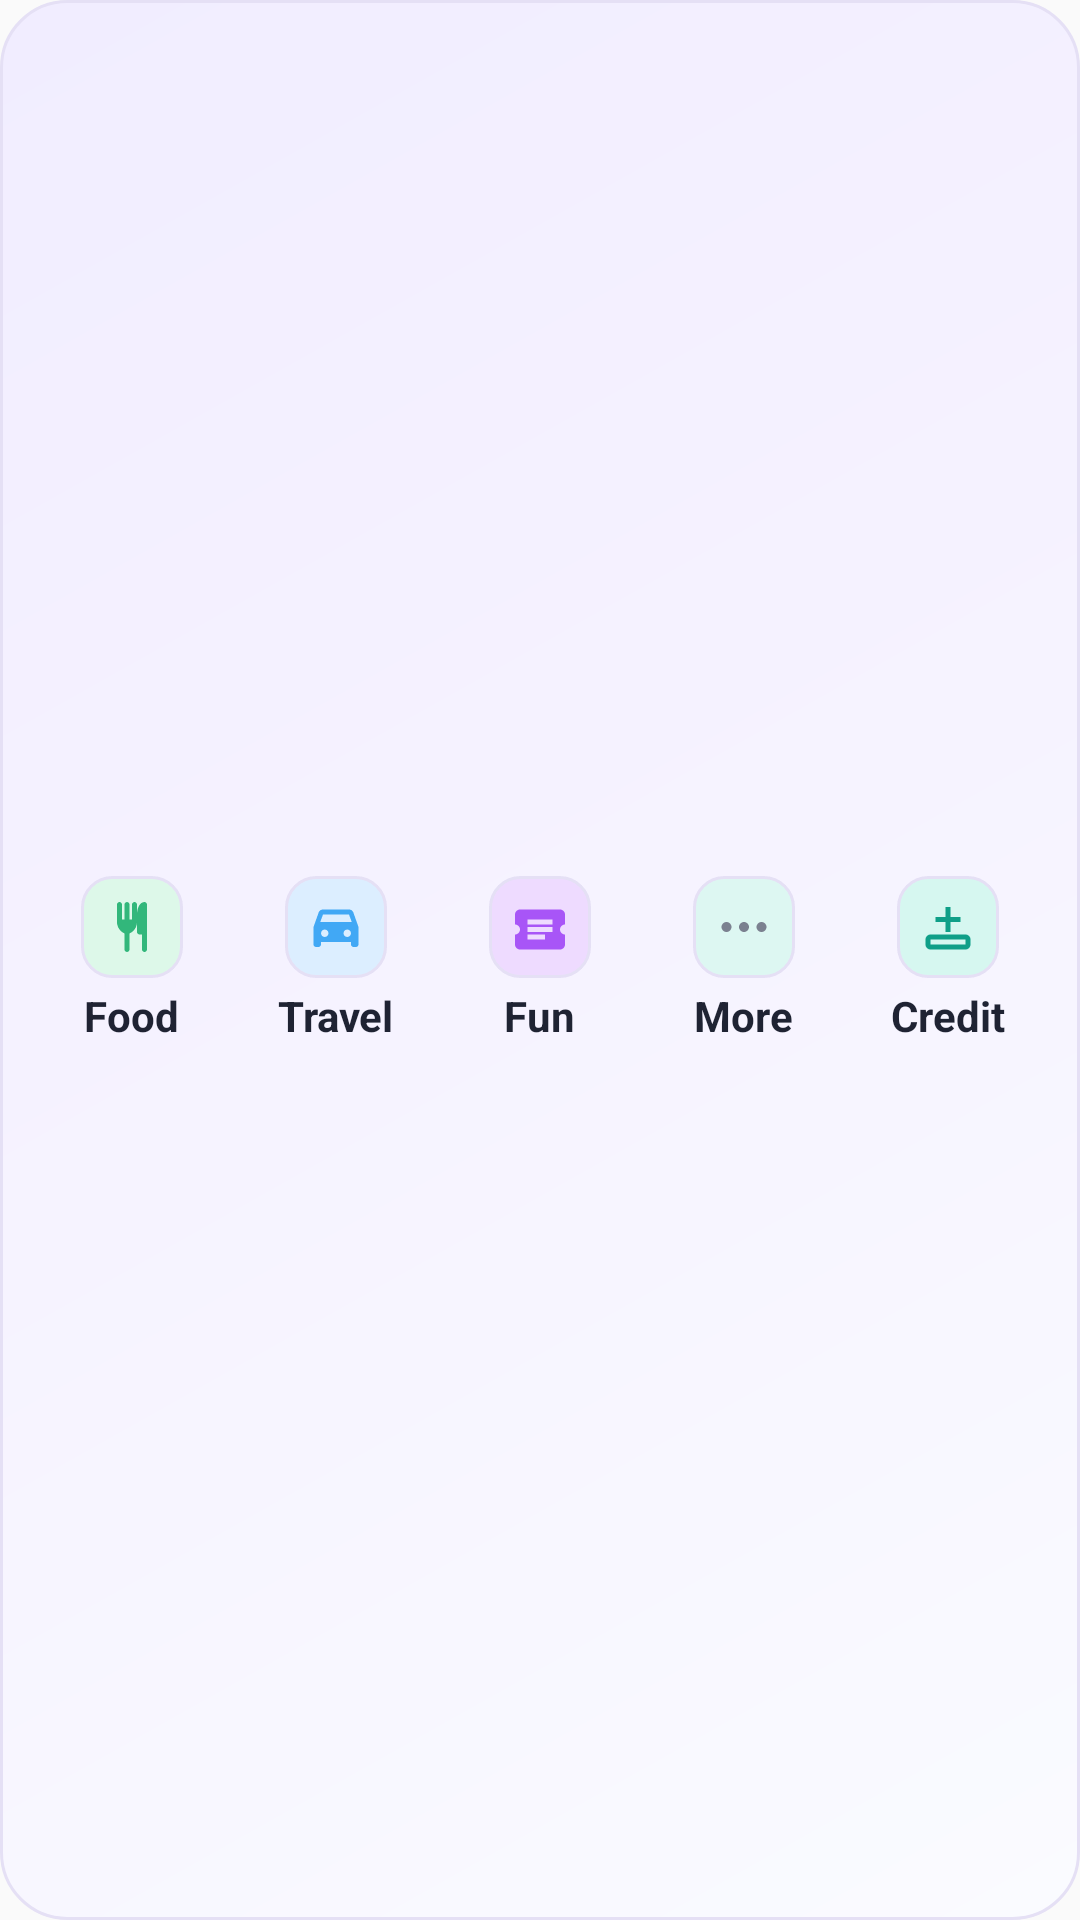

Icons on this 1080x1920 Android screen, each with its box as (x1, y1, x2, y2):
widget entertainment: (515, 909, 565, 950)
widget transport: (288, 879, 384, 975)
